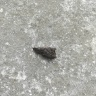Dog: (32, 46, 57, 60)
